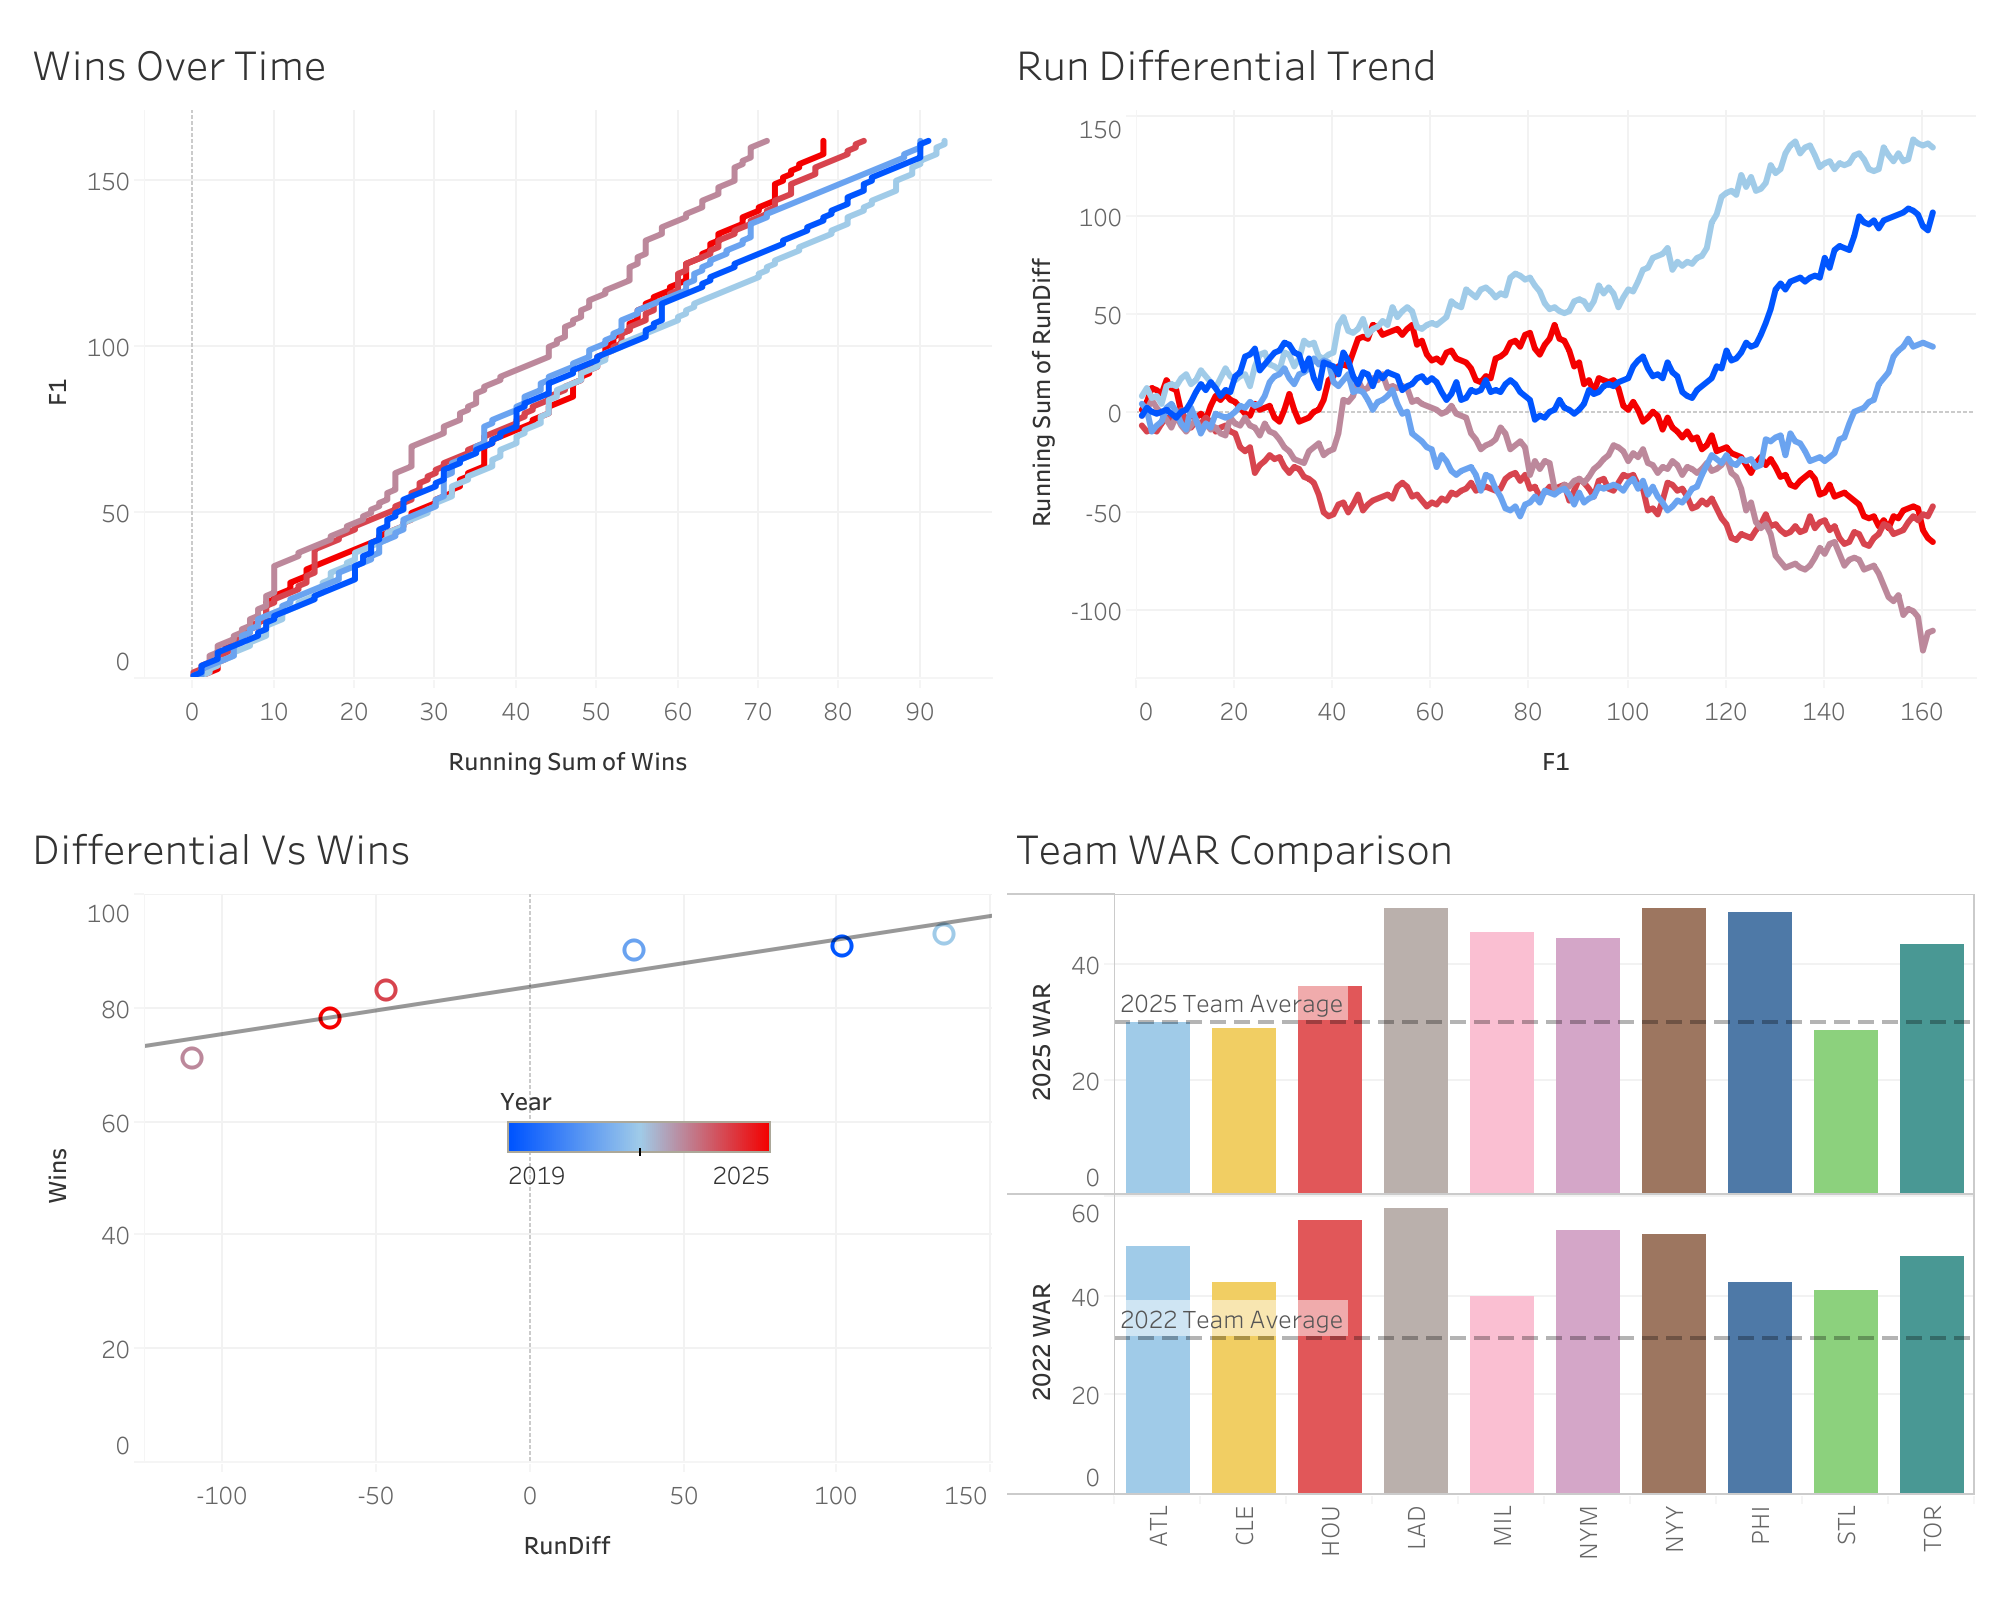

Layout of this report page (visuals, bound fields, positions):
{"tool":"tableau","page":{"name":"MLB Team Performance & WAR Analysis","canvas":[1000,800],"ordinal":0},"visuals":[{"type":"worksheet","title":"Wins Over Time","mark":"Automatic","rows":["F1"],"cols":["Calculation_1358359543406592"],"box":[8,8,492,392]},{"type":"worksheet","title":"Run Differential Trend","mark":"Automatic","cols":["F1"],"box":[500,8,492,392]},{"type":"worksheet","title":"Differential Vs Wins","mark":"Automatic","rows":["Calculation_1358359543406592"],"cols":["Calculation_1358359547588609"],"box":[8,400,492,392]},{"type":"worksheet","title":"Team WAR Comparison","mark":"Automatic","rows":["Calculation_2523979421093888","2025 WAR (copy)_2523979422314497"],"box":[500,400,492,392]},{"type":"legend","title":"Wins Over Time","param":"[federated.011583j02mbg7817n2o2w0b7tcbh].[none:Year:qk]","box":[250,537,140,76]}]}

Visuals, with their boxes in screenshot pixels (x1, y1, x2, y2), scaled from the page's 1000x800 canvas onto the 1998x1598 screenshot:
"Wins Over Time" worksheet: [16, 16, 999, 799]
"Run Differential Trend" worksheet: [999, 16, 1982, 799]
"Differential Vs Wins" worksheet: [16, 799, 999, 1582]
"Team WAR Comparison" worksheet: [999, 799, 1982, 1582]
"Wins Over Time" legend: [500, 1073, 779, 1224]
